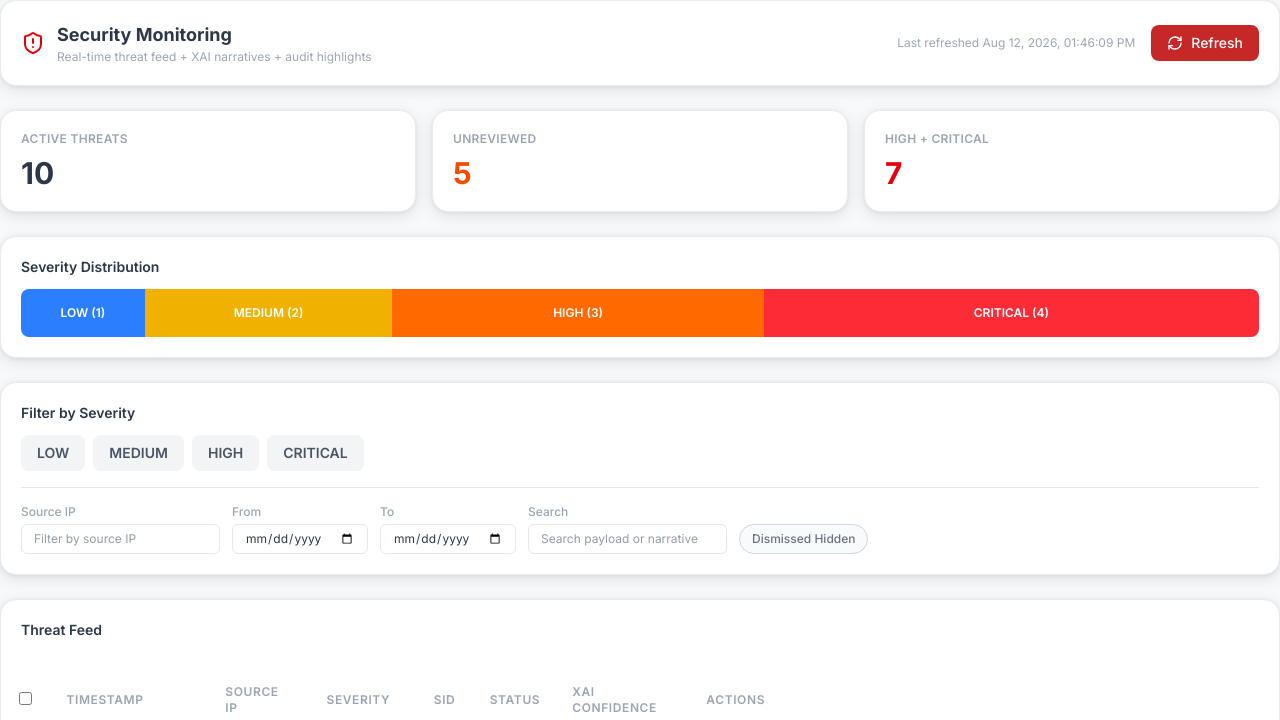
Test: M8: Security Monitoring page — bulk actions + S3 (Task 12) › keeps the preview panel open when every job fails, so the admin can retry
Step 1. Click the checkbox → (25, 698), box [18,692,32,705]
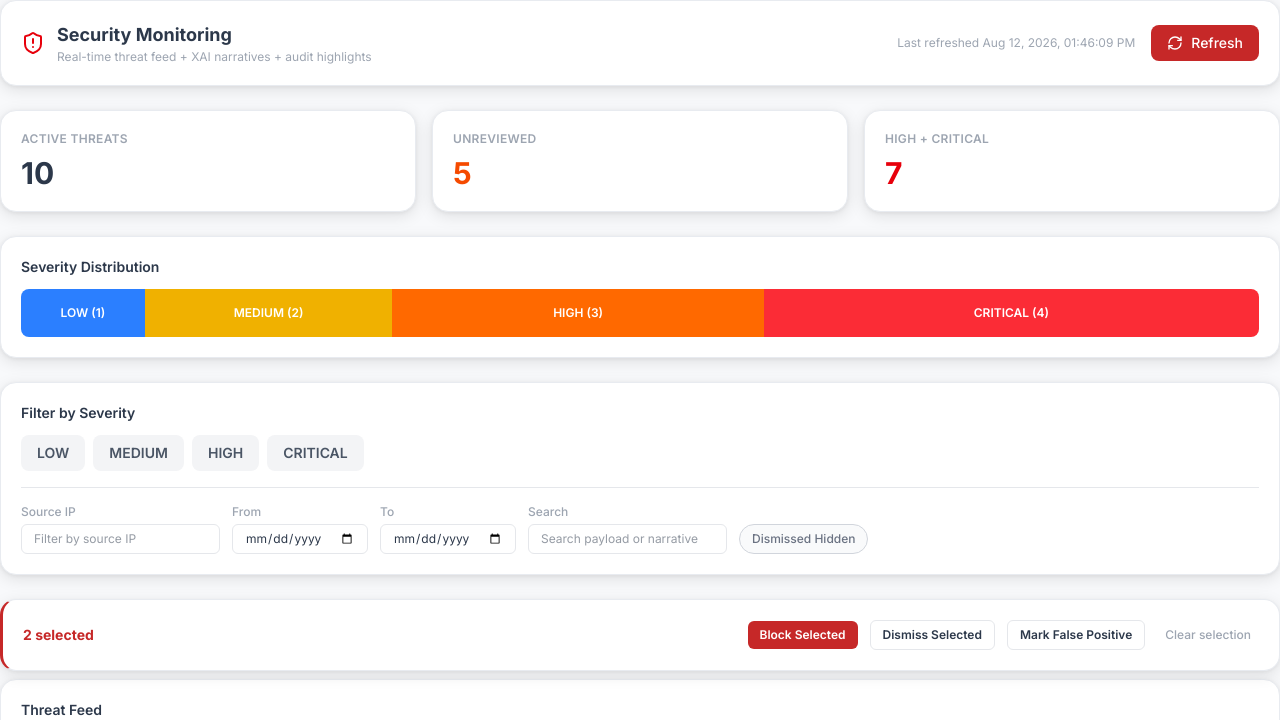
Step 2. Click the button "Block Selected" → (802, 635), box [748,621,858,649]
(page scrolled)
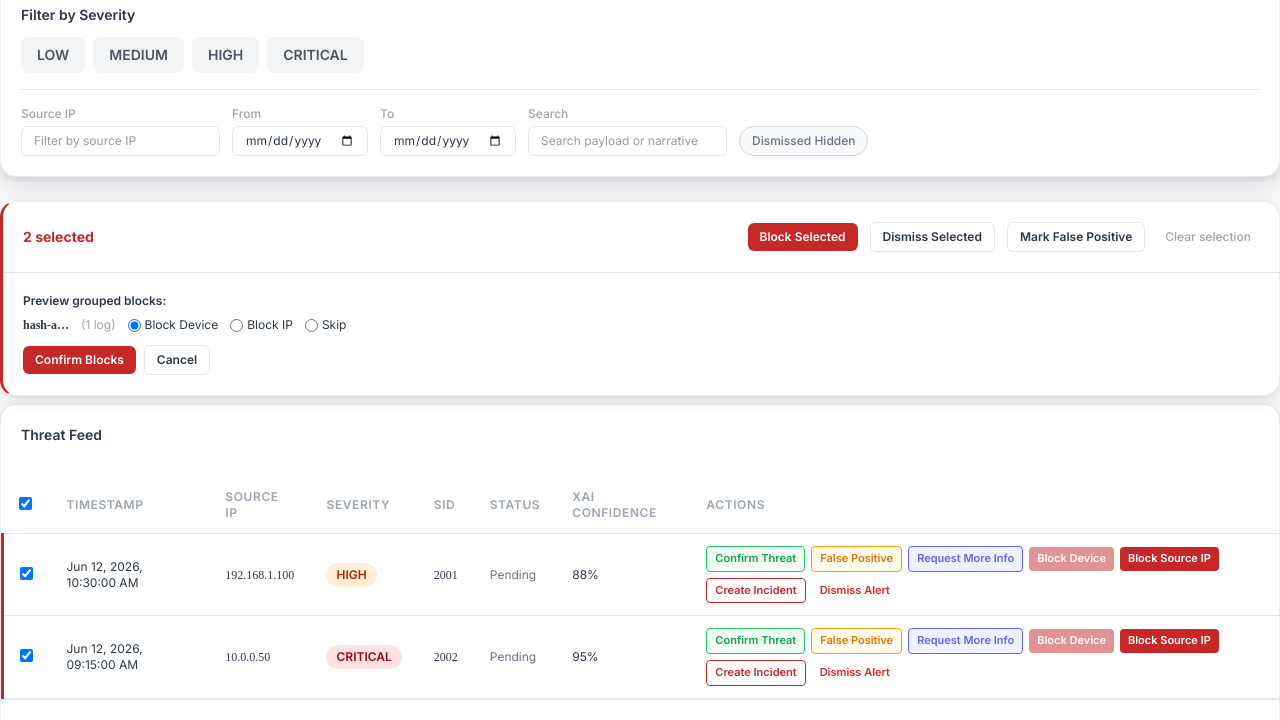
Result: the element with test id "bulk-block-preview-panel" is shown at [3,272,1279,395]
Step 3. Click the button "Confirm Blocks" → (79, 360), box [23,346,136,374]
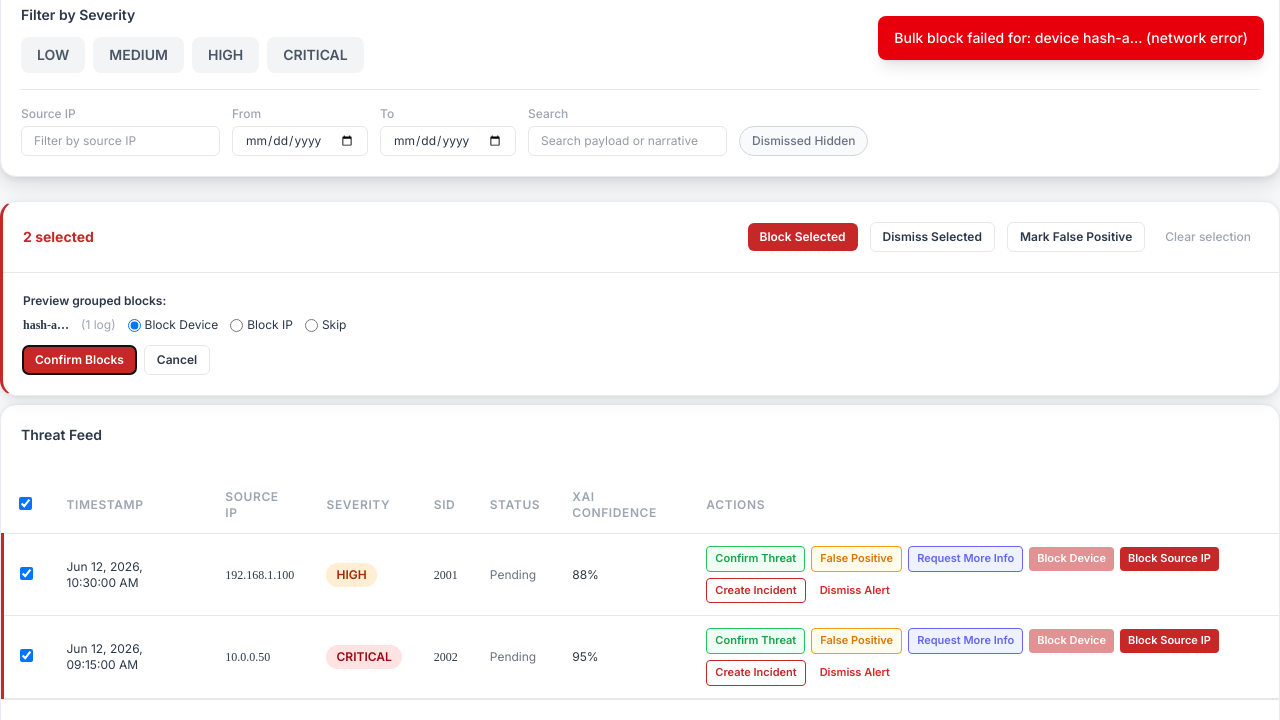
Result: the element with test id "bulk-block-preview-panel" is shown at [3,272,1279,395]
Result: the text "Bulk block failed for: device hash-a… (network error)" is shown at [878,16,1264,60]
